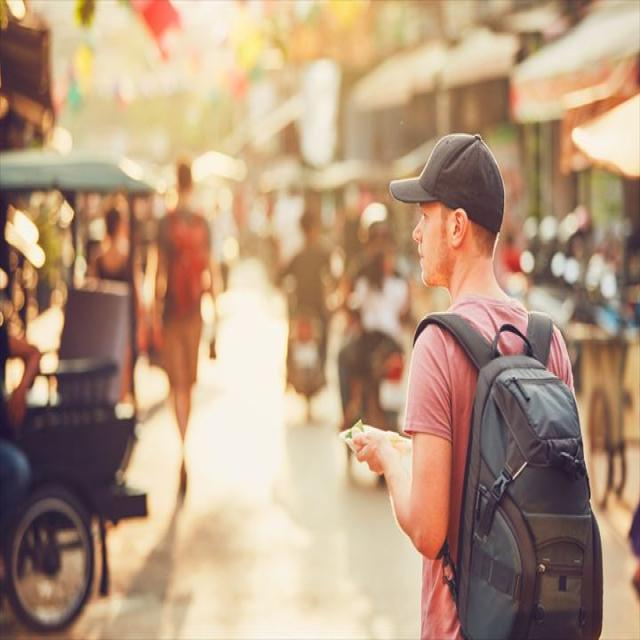illegal_helmet: (386, 126, 508, 300)
